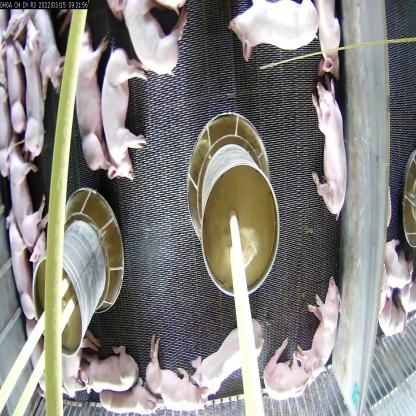Pig: (100, 48, 146, 194), (233, 0, 318, 77), (121, 0, 186, 97), (184, 314, 258, 384), (69, 12, 104, 156), (299, 276, 344, 377), (9, 34, 41, 159), (26, 0, 60, 103), (6, 142, 46, 228), (77, 346, 132, 392), (264, 346, 307, 396), (150, 344, 193, 392)
